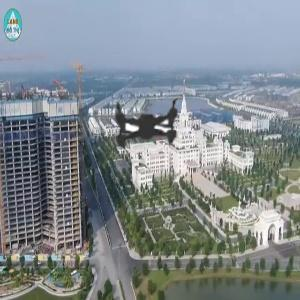drone: (48, 23, 262, 237)
